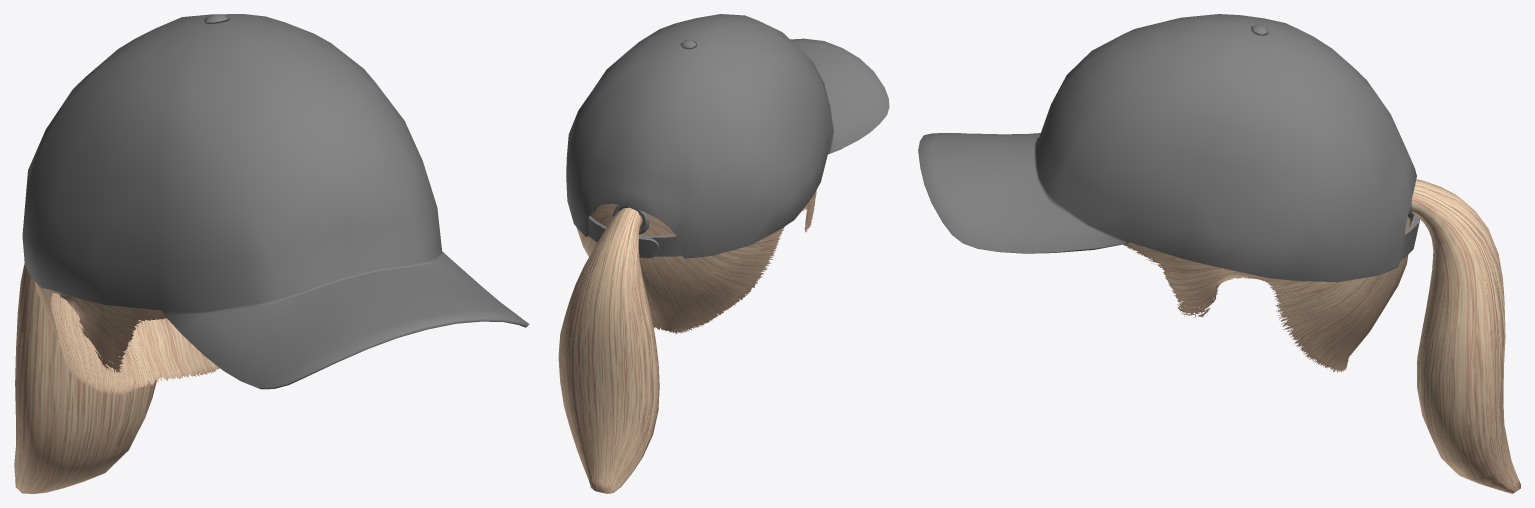
File: BaseballHat_Hair_01.obj
3 renders of one model, left to right at view 1: azimuth 30°, elevation 25°; view 2: azimuth 150°, elevation 25°; view 3: azimuth 270°, elevation 25°, orthographic. The views are drawn at different scales.
Size of the model in its own units: 17.2 by 28.12 by 32.49.
